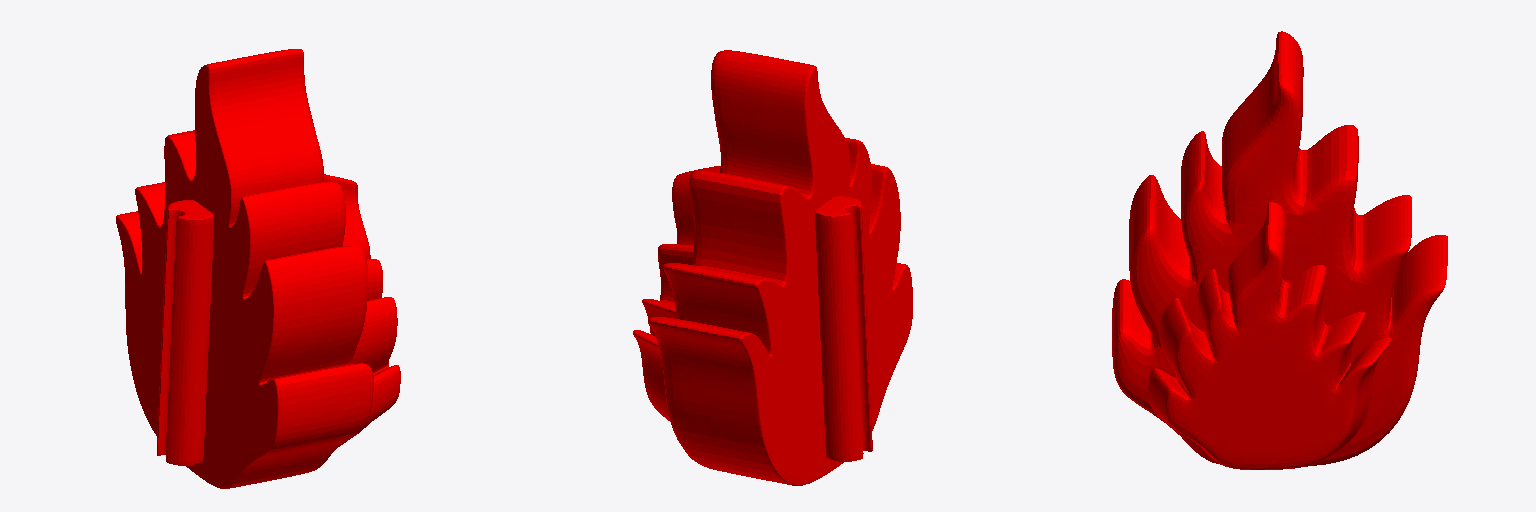
3 views of the same model, side by side, from view 1: azimuth 30°, elevation 25°; view 2: azimuth 150°, elevation 25°; view 3: azimuth 270°, elevation 25° (orthographic).
Parts seen in each view (by area): view 1: 21330_Flame_v1; view 2: 21330_Flame_v1; view 3: 21330_Flame_v1.
Boxes of the visible parts, x1=… form: 21330_Flame_v1: x1=116, y1=49, x2=400, y2=488; 21330_Flame_v1: x1=633, y1=50, x2=912, y2=485; 21330_Flame_v1: x1=1112, y1=31, x2=1447, y2=469.
Size of the model in its own units: 2.5 by 4.96 by 3.74.
Materials: 1 (1 with a texture image).